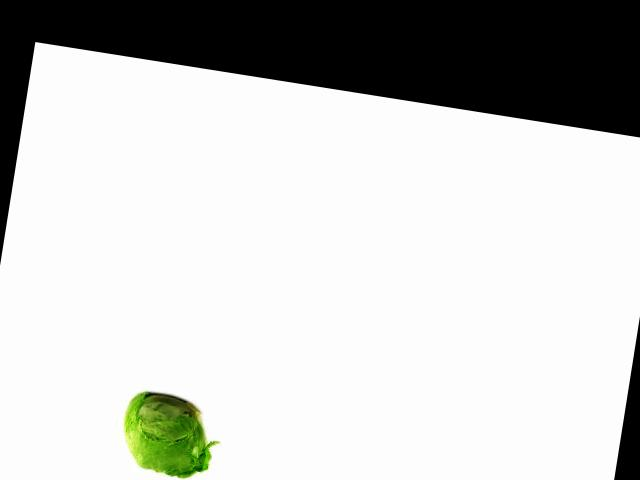lettuce: (113, 385, 216, 480)
